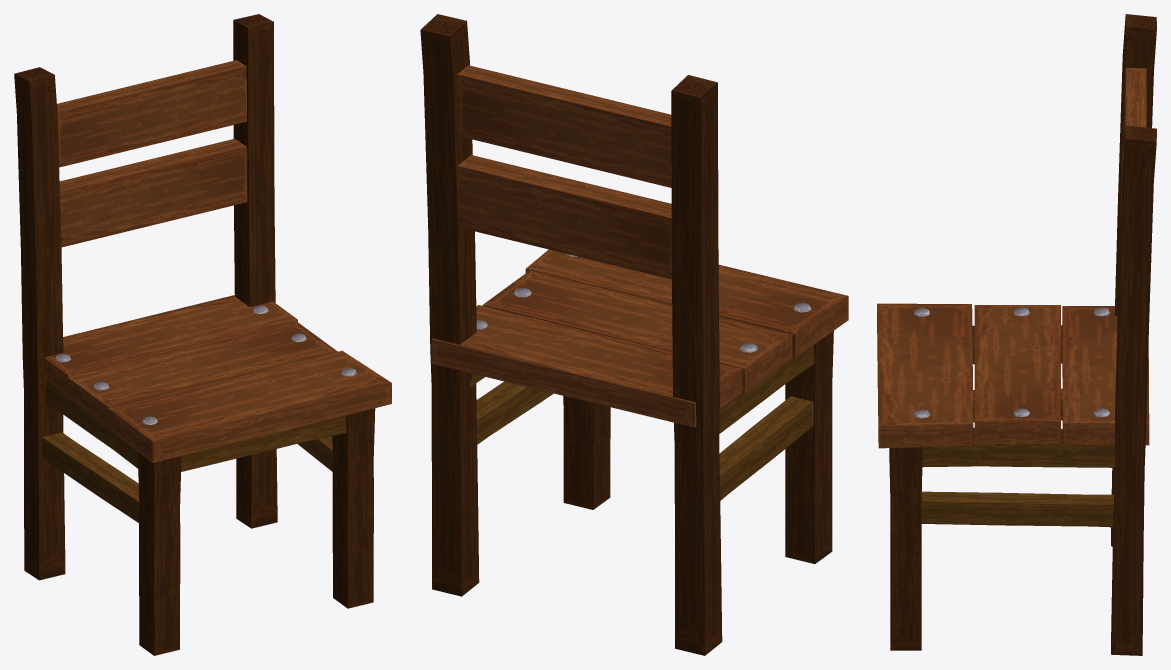
Rendered from Chair_1.gltf.
The picture shows the model from 3 angles, left to right: view 1: azimuth 30°, elevation 25°; view 2: azimuth 150°, elevation 25°; view 3: azimuth 270°, elevation 25°; orthographic projection. The views are drawn at different scales.
Visible parts, largest first — view 1: Chair_1; view 2: Chair_1; view 3: Chair_1.
Part boxes in pixels (bbox=[...]): Chair_1: bbox=[14, 14, 391, 655]; Chair_1: bbox=[420, 14, 848, 655]; Chair_1: bbox=[877, 14, 1156, 655].
Size of the model in its own units: 0.5805 by 1.12 by 0.5489.
Materials: 2 (2 with a texture image).
